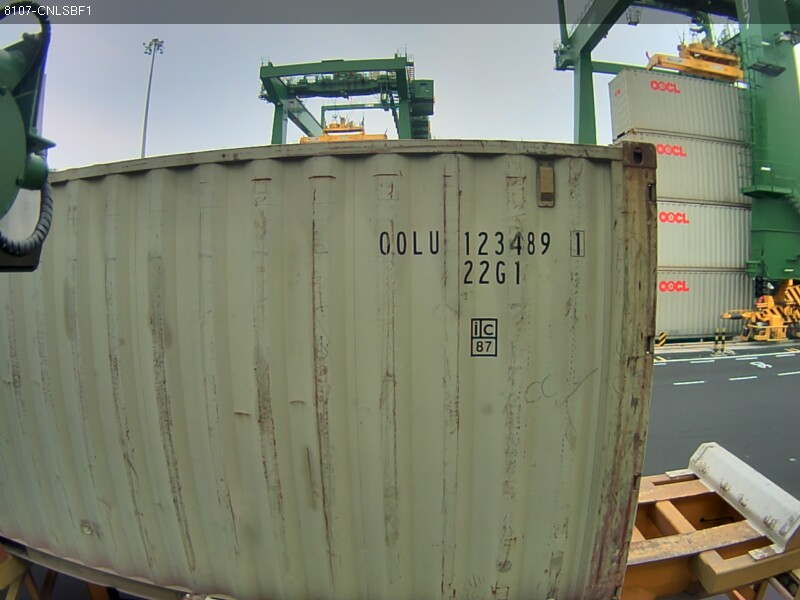container_no_door: (91, 140, 660, 559)
